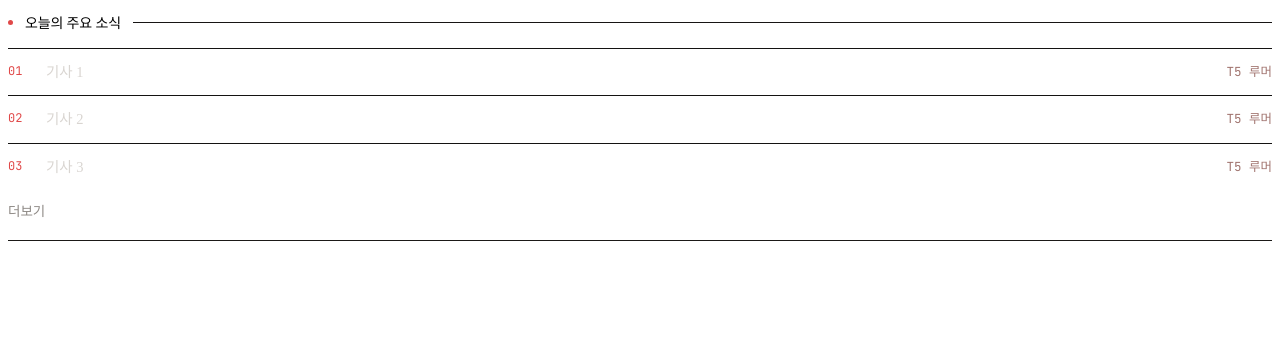
Test: TopArticlesBox › 기본적으로 3건만 보여주고, 더보기를 누르면 전체가 보인다
Expected: the text "기사 1" is shown, [46,64,84,80]
Expected: the text "기사 3" is shown, [46,159,84,175]
What coordinates should you click on to do the following:
click the button "더보기"
I would click on:
 (27, 210)
Its box is [8,200,45,220].
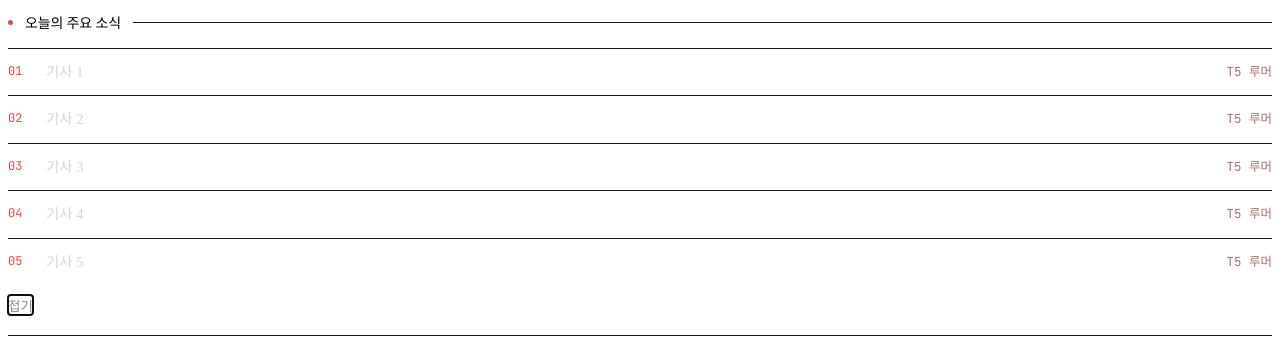
Expected: the text "기사 4" is shown, [46,206,84,222]
Expected: the text "기사 5" is shown, [46,254,84,270]
